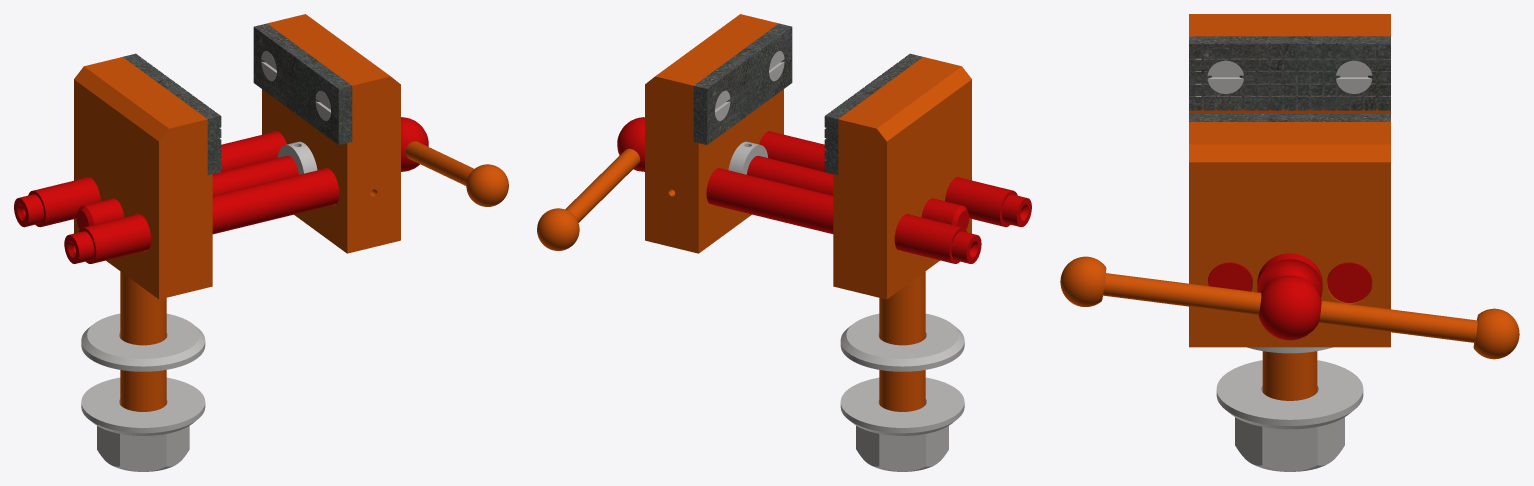
Rendered from Ragum_juru_mesin_Perkakas.glb.
3 views of the same model, side by side, from view 1: azimuth 30°, elevation 25°; view 2: azimuth 150°, elevation 25°; view 3: azimuth 270°, elevation 25° (orthographic). The views are drawn at different scales.
Visible parts, largest first — view 1: Solid1 (×13); view 2: Solid1 (×13); view 3: Solid1 (×14).
Boxes of the visible parts, x1,y1,x2,y2 form: Solid1 (×13): (14,14,508,471); Solid1 (×13): (537,14,1031,471); Solid1 (×14): (1060,14,1519,471).
Size of the model in its own units: 0.1791 by 0.1651 by 0.1589.
Materials: 4 (1 with a texture image).
